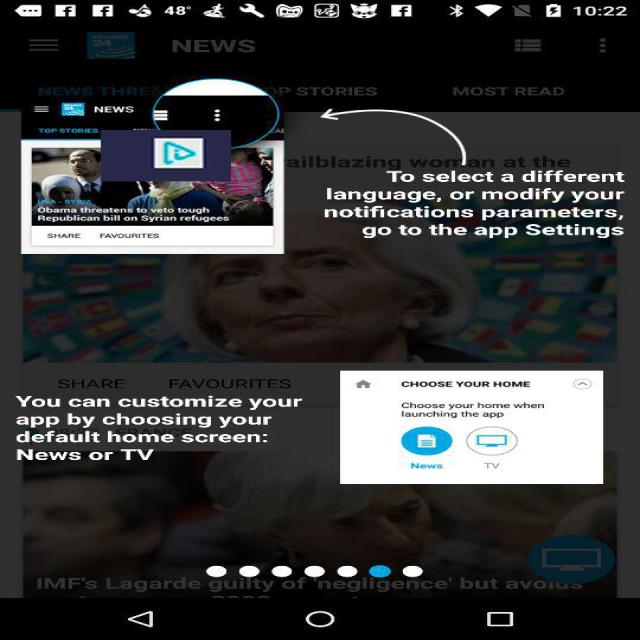sneaking: (101, 130, 231, 181)
